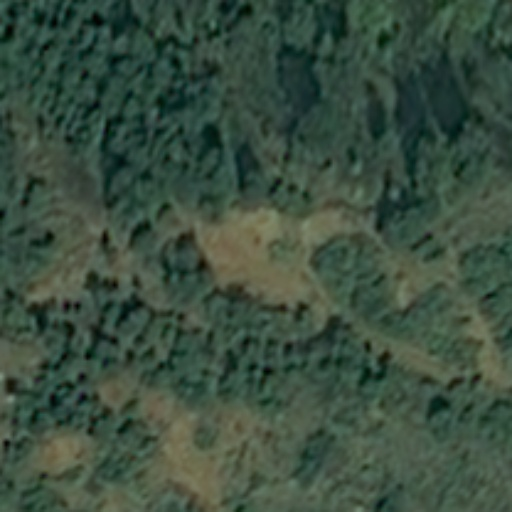landslide: (167, 203, 359, 320)
